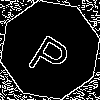P: (25, 25, 78, 82)
